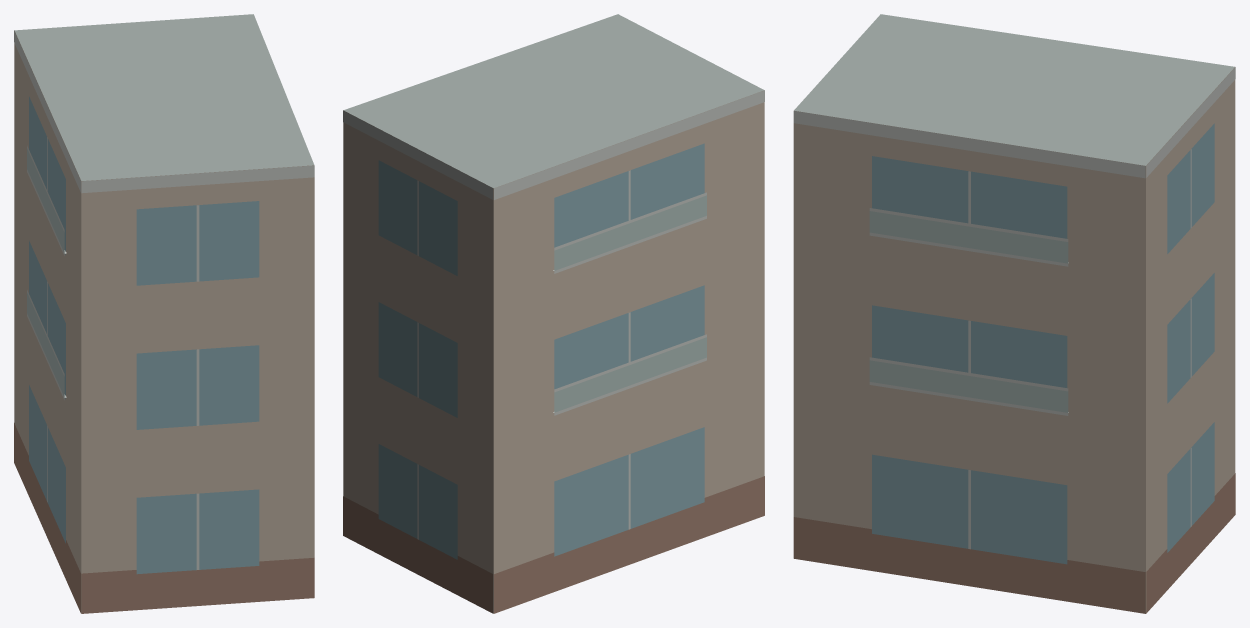
Rendered from survey-upis-32549905.glb.
The picture shows the model from 3 angles, left to right: view 1: azimuth 30°, elevation 25°; view 2: azimuth 150°, elevation 25°; view 3: azimuth 270°, elevation 25°; orthographic projection. The views are drawn at different scales.
Visible parts, largest first — view 1: survey-upis-32549905.tmp; view 2: survey-upis-32549905.tmp; view 3: survey-upis-32549905.tmp.
Part boxes in pixels (<box>): survey-upis-32549905.tmp: <box>14,14,314,613</box>; survey-upis-32549905.tmp: <box>343,14,764,613</box>; survey-upis-32549905.tmp: <box>793,14,1235,613</box>.
Bounding box in the file's own units: 6.33 × 8.7 × 7.78.
